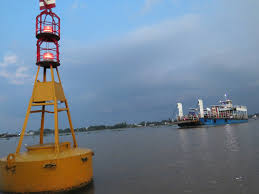tau_dansu: (168, 95, 250, 128)
